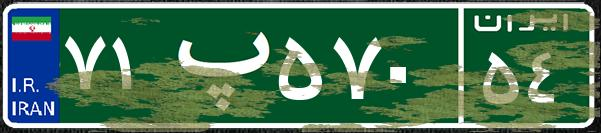0: (385, 28, 445, 110)
1: (110, 28, 158, 105)
4: (525, 38, 570, 115)
5: (273, 28, 330, 110), (475, 38, 525, 113)
7: (330, 28, 385, 110), (57, 26, 110, 107)
پ: (158, 15, 273, 115)
